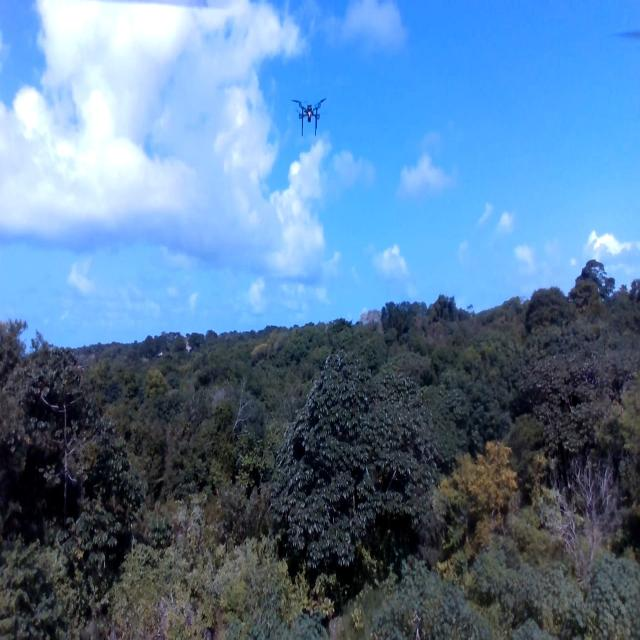-uav-: (287, 86, 330, 142)
